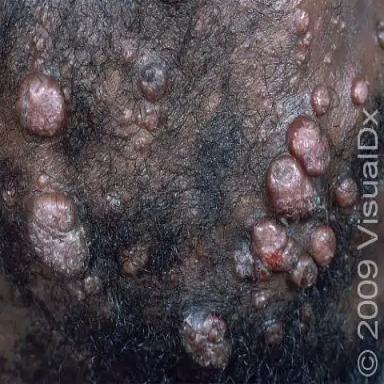Molluscum-Contagiosum: (265, 116, 330, 218), (231, 217, 317, 288), (27, 193, 89, 276), (16, 74, 66, 137), (182, 309, 232, 368), (139, 63, 167, 102), (311, 226, 336, 265), (120, 245, 149, 276), (336, 177, 358, 206), (311, 85, 331, 116), (133, 131, 152, 154), (352, 77, 368, 104), (294, 9, 310, 35), (84, 276, 101, 295), (107, 192, 122, 213), (144, 110, 159, 131), (252, 290, 269, 308), (377, 21, 384, 48), (122, 108, 133, 124), (37, 174, 49, 188)
